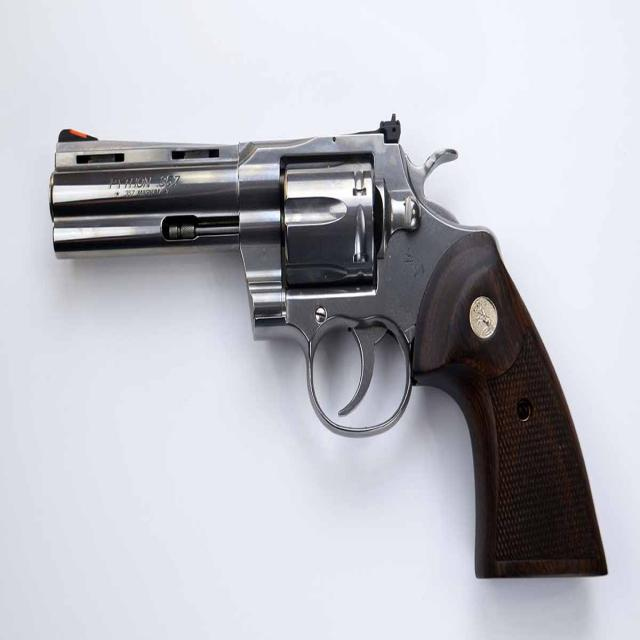handgun: (48, 129, 616, 590)
